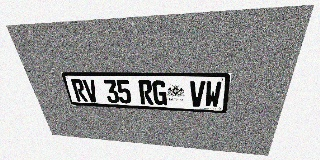3: (103, 79, 120, 103)
5: (116, 80, 132, 104)
G: (152, 80, 167, 105)
R: (70, 79, 88, 102), (138, 80, 153, 105)
V: (189, 81, 205, 107), (82, 79, 99, 102)
W: (204, 81, 222, 108)
